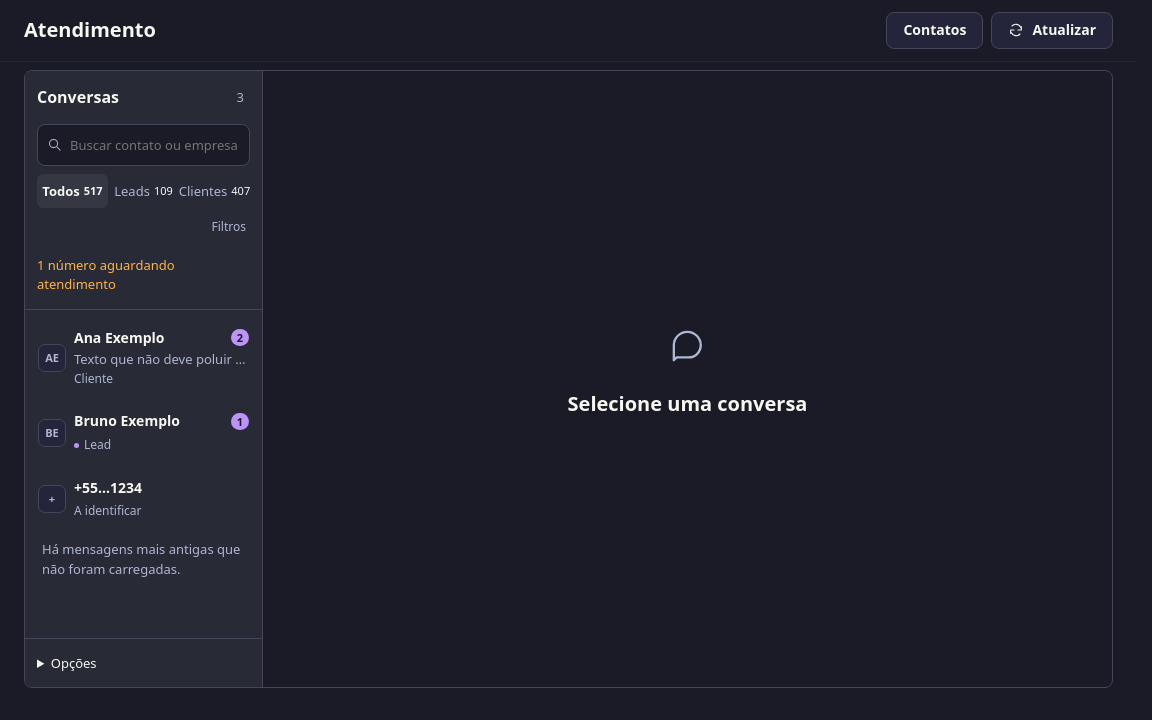
Test: filtros exibem totais globais mesmo quando busca e página não trazem os contatos
This screenshot has width=1152, height=720.
Check: the button "Todos 517" is shown, box x1=37 y1=174 x2=108 y2=208
Check: the button "Clientes 407" is shown, box x1=179 y1=174 x2=250 y2=208
Click the button "Leads 109". click: (144, 191)
box: x1=108 y1=174 x2=179 y2=208
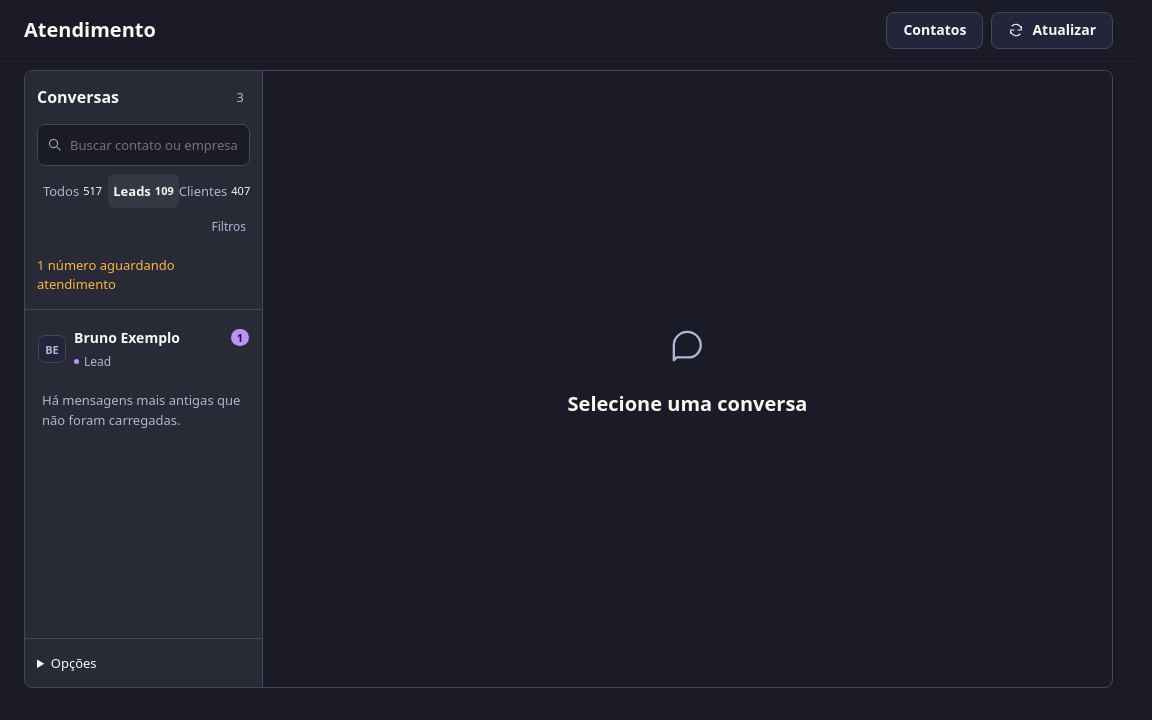
Check: the button "Clientes 407" is shown, box x1=179 y1=174 x2=250 y2=208
Check: the button with test id "conversa-cliente" is gone
Type "ausente" into the field named "Buscar pessoa ou empresa". click: (155, 145)
box: x1=70 y1=125 x2=240 y2=165
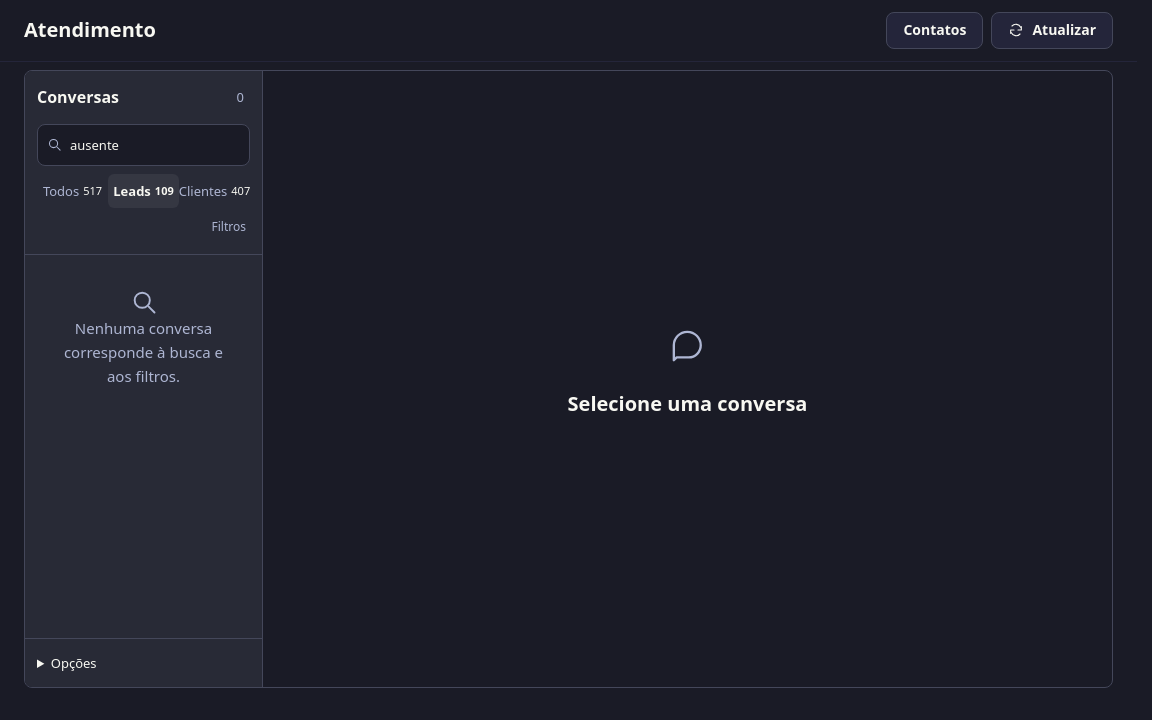
Check: the button "Leads 109" is shown, box x1=108 y1=174 x2=179 y2=208
Check: the text "Nenhuma conversa corresponde à busca e aos filtros." is shown, box x1=58 y1=316 x2=229 y2=388
